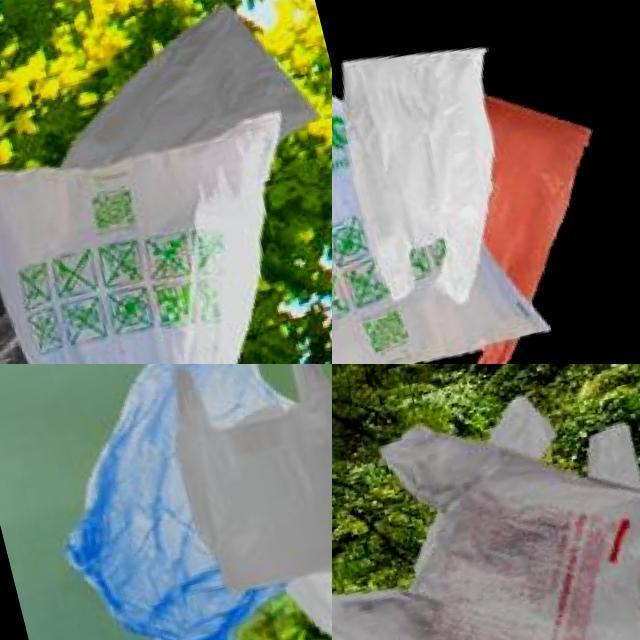waste: (0, 91, 332, 364), (13, 364, 332, 640), (332, 364, 640, 640), (332, 384, 640, 640), (332, 43, 568, 364), (332, 23, 532, 323), (149, 364, 332, 619), (232, 364, 332, 640)
